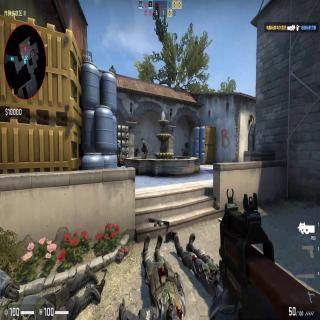T-Body: (115, 142, 125, 166), (141, 138, 147, 159)
T-Head: (116, 142, 120, 147), (142, 137, 144, 143)
